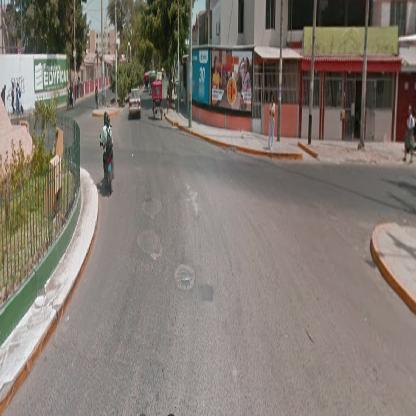Moto: (100, 112, 115, 197)
Obstaculo: (138, 230, 163, 263), (175, 264, 196, 291), (144, 199, 164, 219)
Peaton: (269, 95, 276, 151)
Vehiculo: (152, 81, 164, 121), (130, 89, 142, 120)
